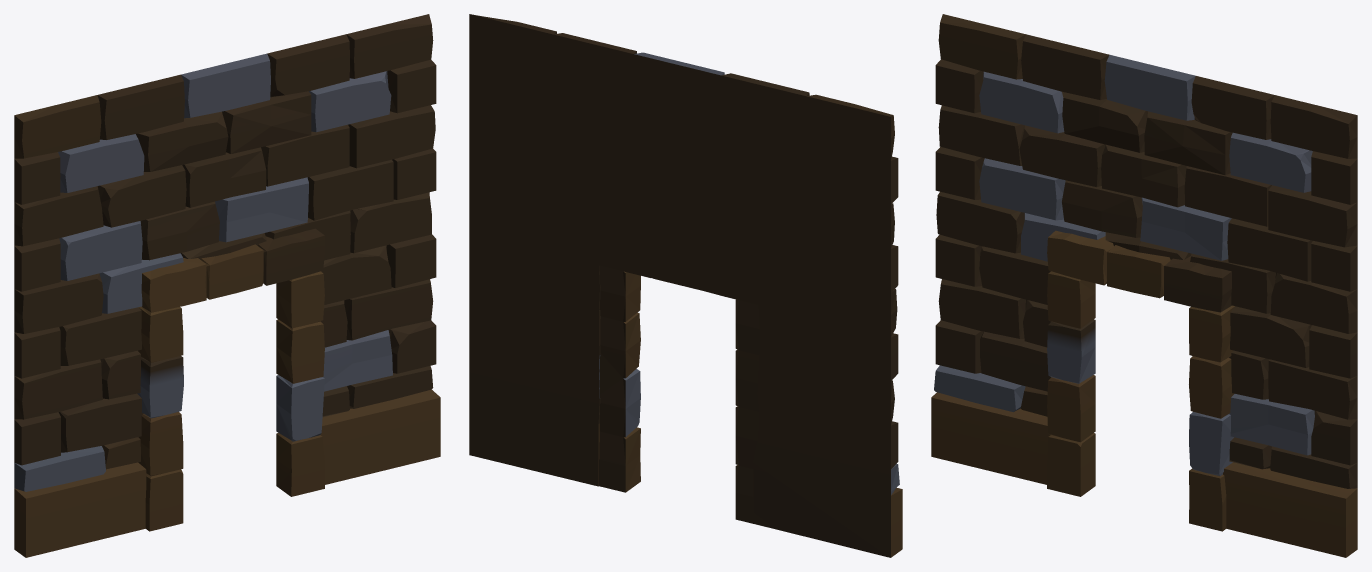
The model's file is Wall_32.fbx.
The picture shows the model from 3 angles, left to right: view 1: azimuth 30°, elevation 25°; view 2: azimuth 150°, elevation 25°; view 3: azimuth 330°, elevation 25°; orthographic projection.
Parts seen in each view (by area): view 1: Wall_32; view 2: Wall_32; view 3: Wall_32.
Part boxes in pixels (x1,y1,x2,y2): Wall_32: (14, 14, 440, 557); Wall_32: (469, 14, 902, 557); Wall_32: (931, 14, 1357, 557).
Size of the model in its own units: 4 by 4 by 0.2603.
